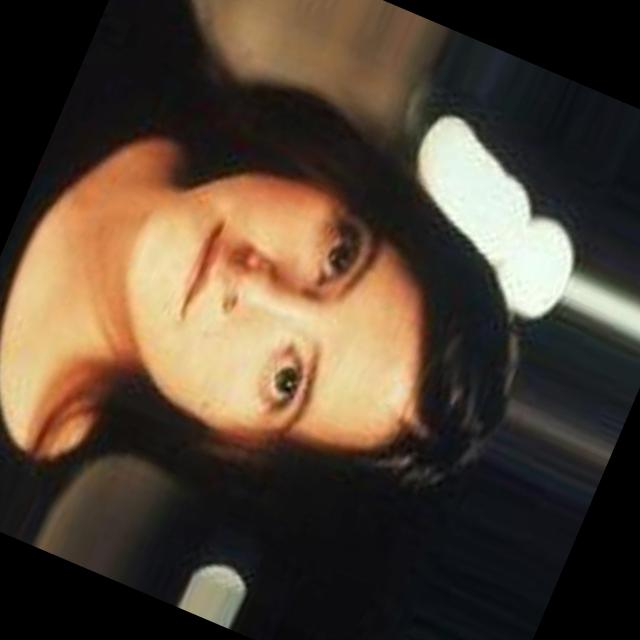bareface: (39, 98, 540, 609)
